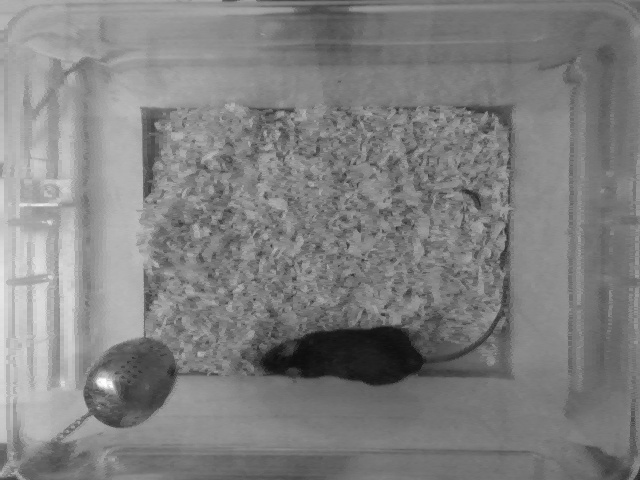mice: (257, 269, 515, 386)
